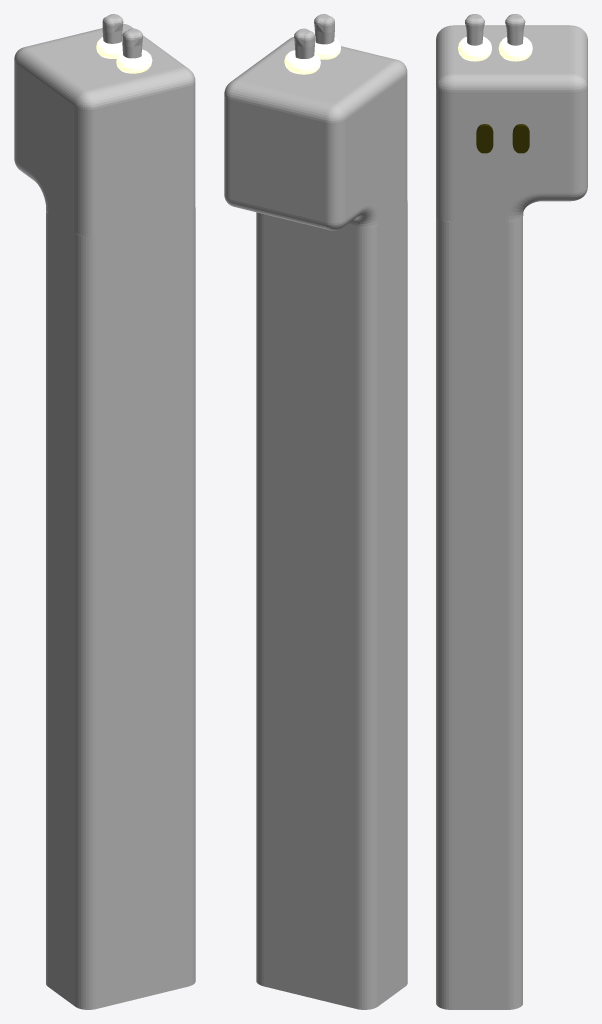
The model's file is 长颈鹿0812.dae.
3 views of the same model, side by side, from view 1: azimuth 30°, elevation 25°; view 2: azimuth 150°, elevation 25°; view 3: azimuth 270°, elevation 25° (orthographic).
Parts seen in each view (by area): view 1: __, _, ______; view 2: __, _, ______; view 3: __, _, ______ (×2).
Part boxes in pixels (<box>): __: <box>46,207,195,1009</box>; _: <box>14,14,195,236</box>; ______: <box>116,49,152,73</box>; __: <box>256,200,407,1009</box>; _: <box>224,14,407,230</box>; ______: <box>284,50,320,74</box>; __: <box>436,216,522,1009</box>; _: <box>436,14,587,221</box>; ______ (×2): <box>458,36,532,61</box>.
Size of the model in its own units: 1.29 by 9.64 by 1.37.
